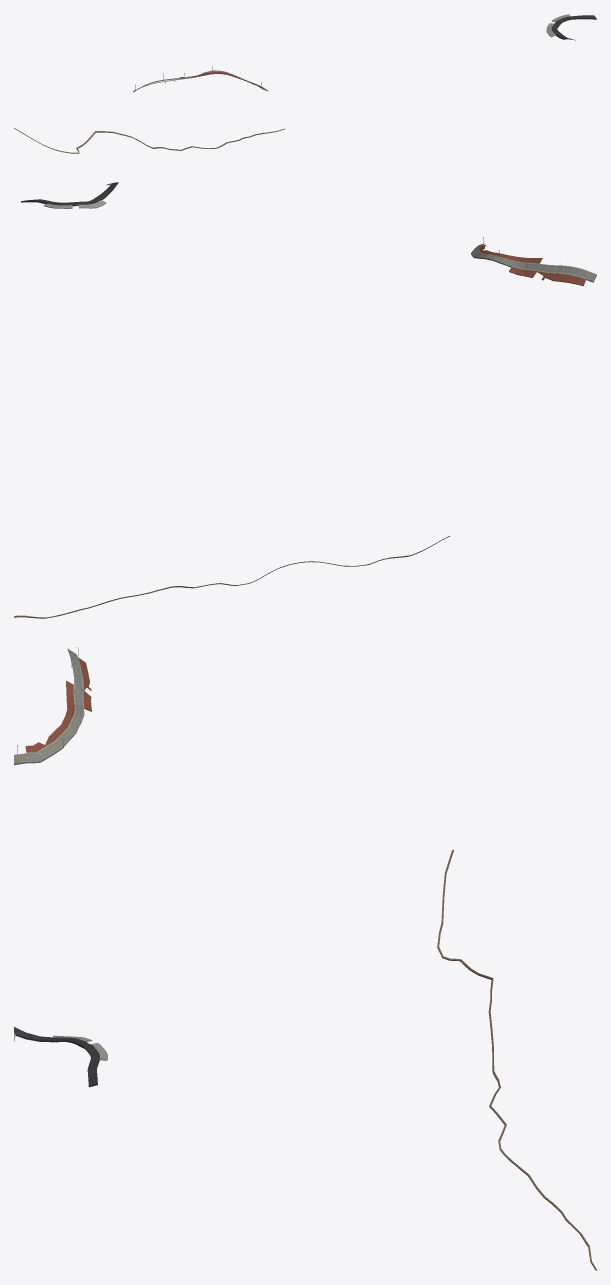
The model's file is 16-54729-29751.152aae77.glb.
The picture shows the model from 3 angles, top to bottom: view 1: azimuth 30°, elevation 25°; view 2: azimuth 150°, elevation 25°; view 3: azimuth 270°, elevation 25°; orthographic projection. The views are drawn at different scales.
Size of the model in its own units: 587 by 296 by 400.
